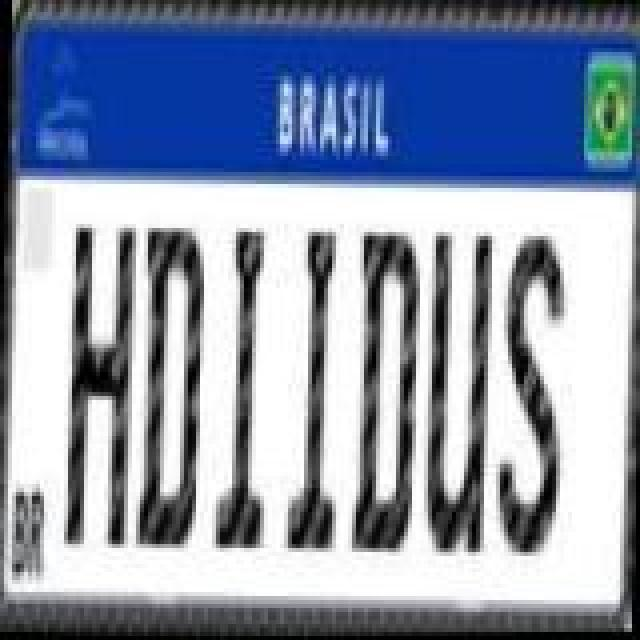D: (132, 220, 208, 556), (344, 224, 420, 556)
H: (64, 214, 140, 550)
I: (210, 222, 274, 554), (282, 224, 346, 552)
S: (492, 226, 568, 562)
U: (420, 228, 496, 560)
